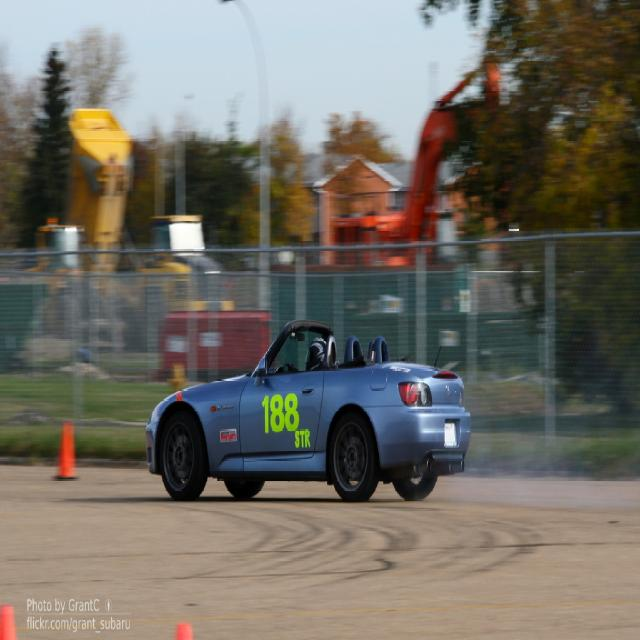car: (144, 321, 470, 502)
